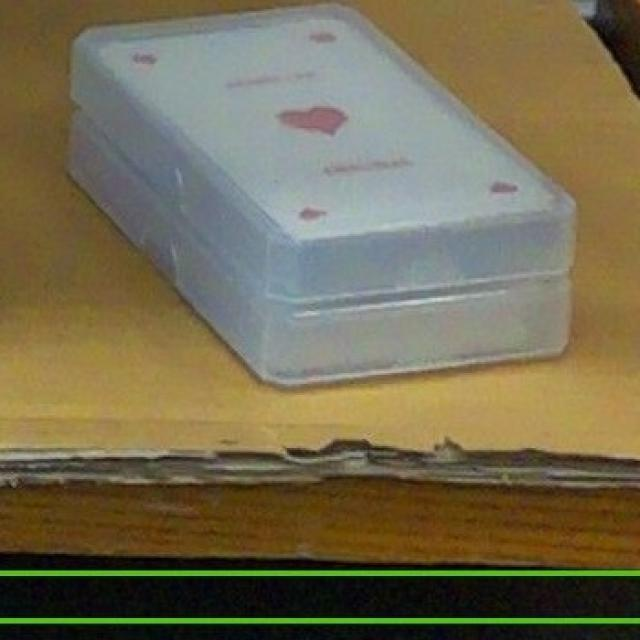Jasskarte: (73, 1, 580, 302), (72, 107, 570, 387)
